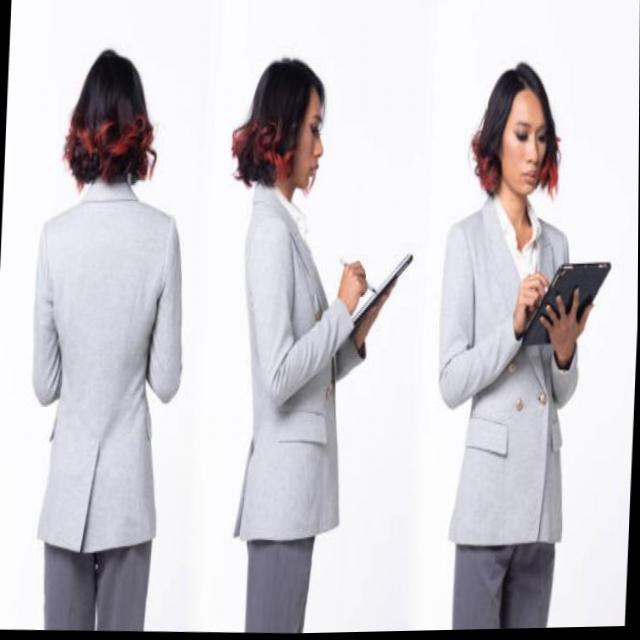no helmet: (61, 44, 156, 200)
